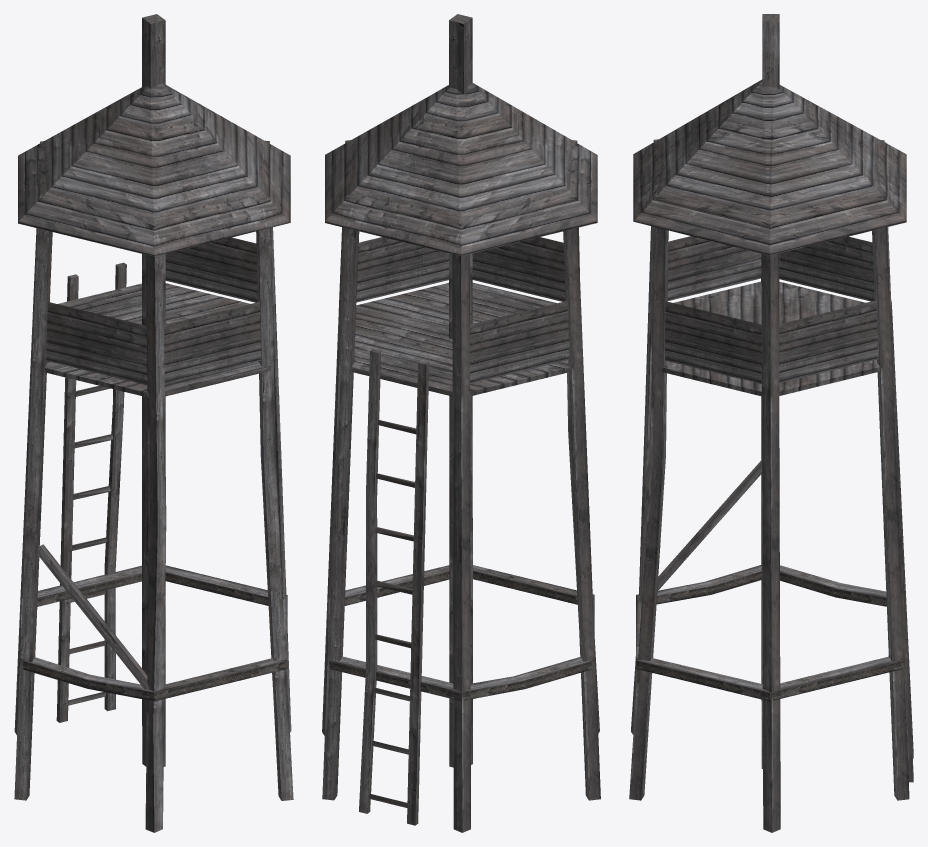
Rendered from v3_huntingtower_roof_LOD.dae.
3 views of the same model, side by side, from view 1: azimuth 30°, elevation 25°; view 2: azimuth 150°, elevation 25°; view 3: azimuth 270°, elevation 25° (orthographic).
Visible parts, largest first — view 1: WoodPlanks, Wood_planks_ornaments; view 2: WoodPlanks, Wood_planks_ornaments; view 3: WoodPlanks, Wood_planks_ornaments.
Part boxes in pixels (box(x1,y1,x2,y2)): WoodPlanks: box(14, 14, 293, 832); Wood_planks_ornaments: box(21, 144, 287, 701); WoodPlanks: box(322, 14, 600, 832); Wood_planks_ornaments: box(327, 200, 594, 700); WoodPlanks: box(629, 14, 913, 832); Wood_planks_ornaments: box(636, 142, 903, 701).
Size of the model in its own units: 3.46 by 8.89 by 3.06.
